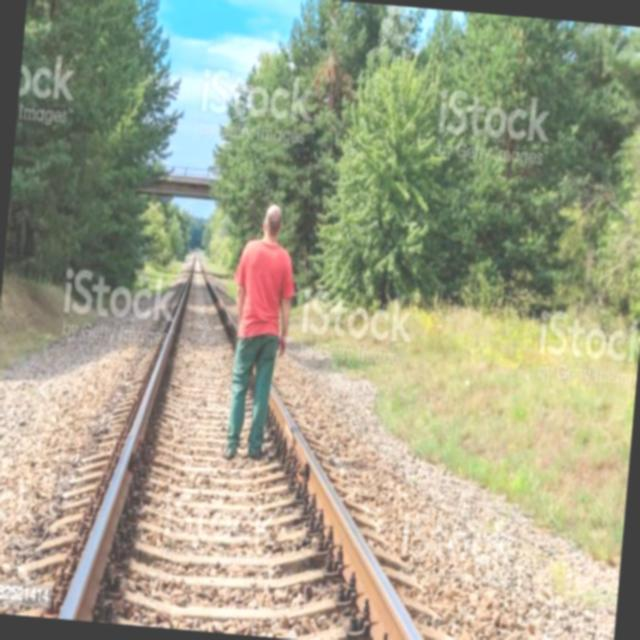rail: (24, 249, 490, 640)
